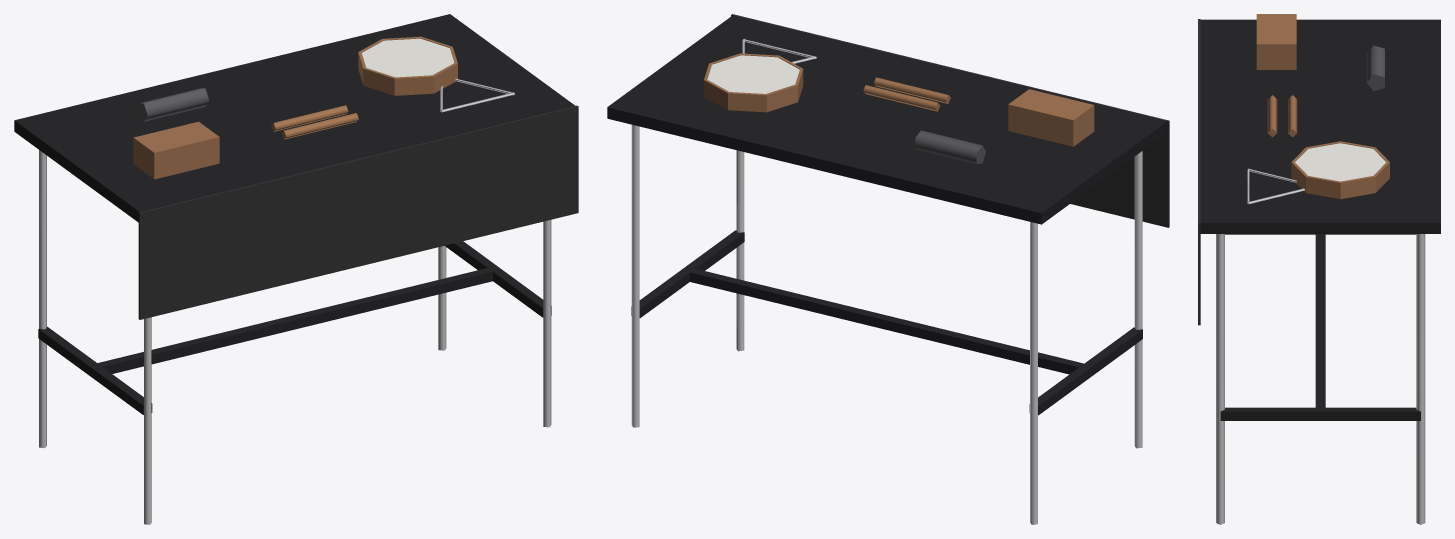
The model's file is trap-table-low.glb.
3 renders of one model, left to right at view 1: azimuth 30°, elevation 25°; view 2: azimuth 150°, elevation 25°; view 3: azimuth 270°, elevation 25°, orthographic. The views are drawn at different scales.
Parts seen in each view (by area): view 1: frame, cloth, wood, metal, head, panel; view 2: frame, metal, wood, cloth, head, panel; view 3: frame, metal, wood, head, cloth, panel.
Boxes of the visible parts, x1,y1,x2,y2 form: frame: [14, 14, 575, 414]; cloth: [138, 105, 578, 319]; wood: [133, 36, 457, 179]; metal: [39, 78, 551, 524]; head: [362, 38, 454, 77]; panel: [138, 88, 209, 121]; frame: [607, 15, 1166, 415]; metal: [631, 39, 1142, 524]; wood: [704, 53, 1094, 146]; cloth: [731, 14, 1169, 227]; head: [707, 55, 799, 93]; panel: [915, 130, 985, 164]; frame: [1200, 19, 1440, 420]; metal: [1216, 168, 1425, 524]; wood: [1256, 14, 1389, 199]; head: [1295, 143, 1386, 181]; cloth: [1198, 19, 1200, 325]; panel: [1366, 45, 1384, 91].
Bounding box in the file's own units: 1.21 × 0.922 × 0.606.
